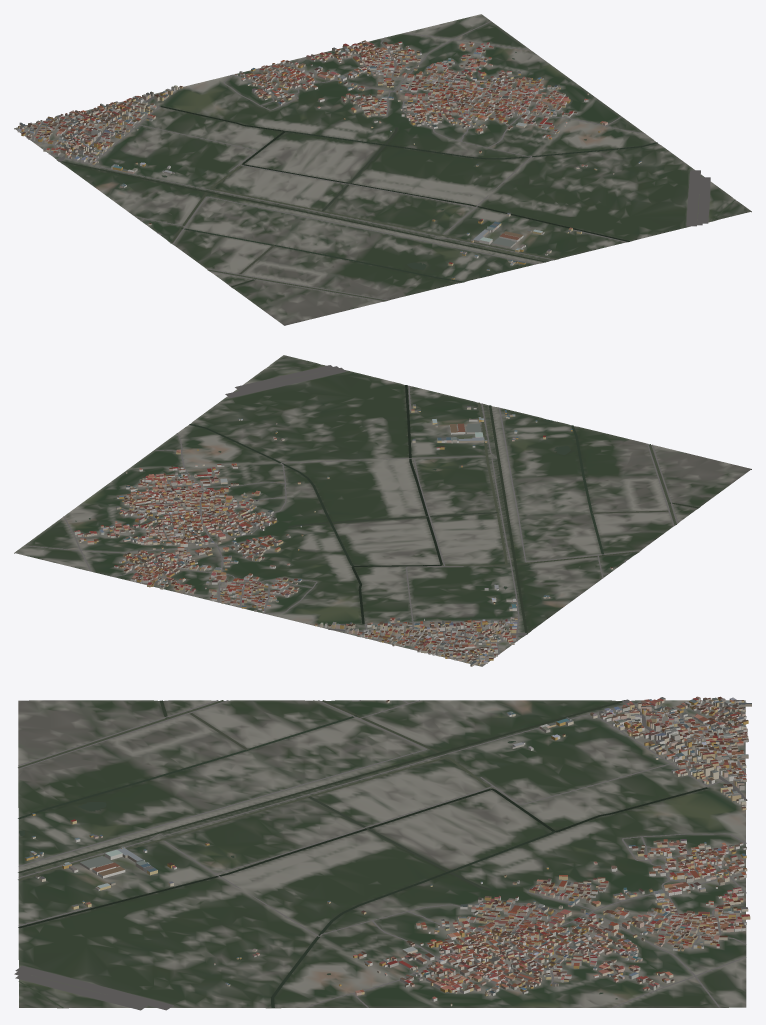
The picture shows the model from 3 angles, top to bottom: view 1: azimuth 30°, elevation 25°; view 2: azimuth 150°, elevation 25°; view 3: azimuth 270°, elevation 25°; orthographic projection. The views are drawn at different scales.
Parts seen in each view (by area): view 1: ground, buildings, roads, water; view 2: ground, buildings, roads, water; view 3: ground, buildings, roads, water.
Part boxes in pixels (x1,y1,x2,y2): ground: (14,14,751,325); buildings: (17,40,641,279); roads: (30,21,710,301); water: (58,52,735,301); ground: (14,355,751,666); buildings: (74,404,612,666); roads: (24,365,678,659); water: (75,365,698,634); ground: (18,700,746,1008); buildings: (25,696,751,1006); roads: (14,699,747,1010); water: (18,700,708,1008).
Size of the model in its own units: 1421 by 21.3 by 1422.
